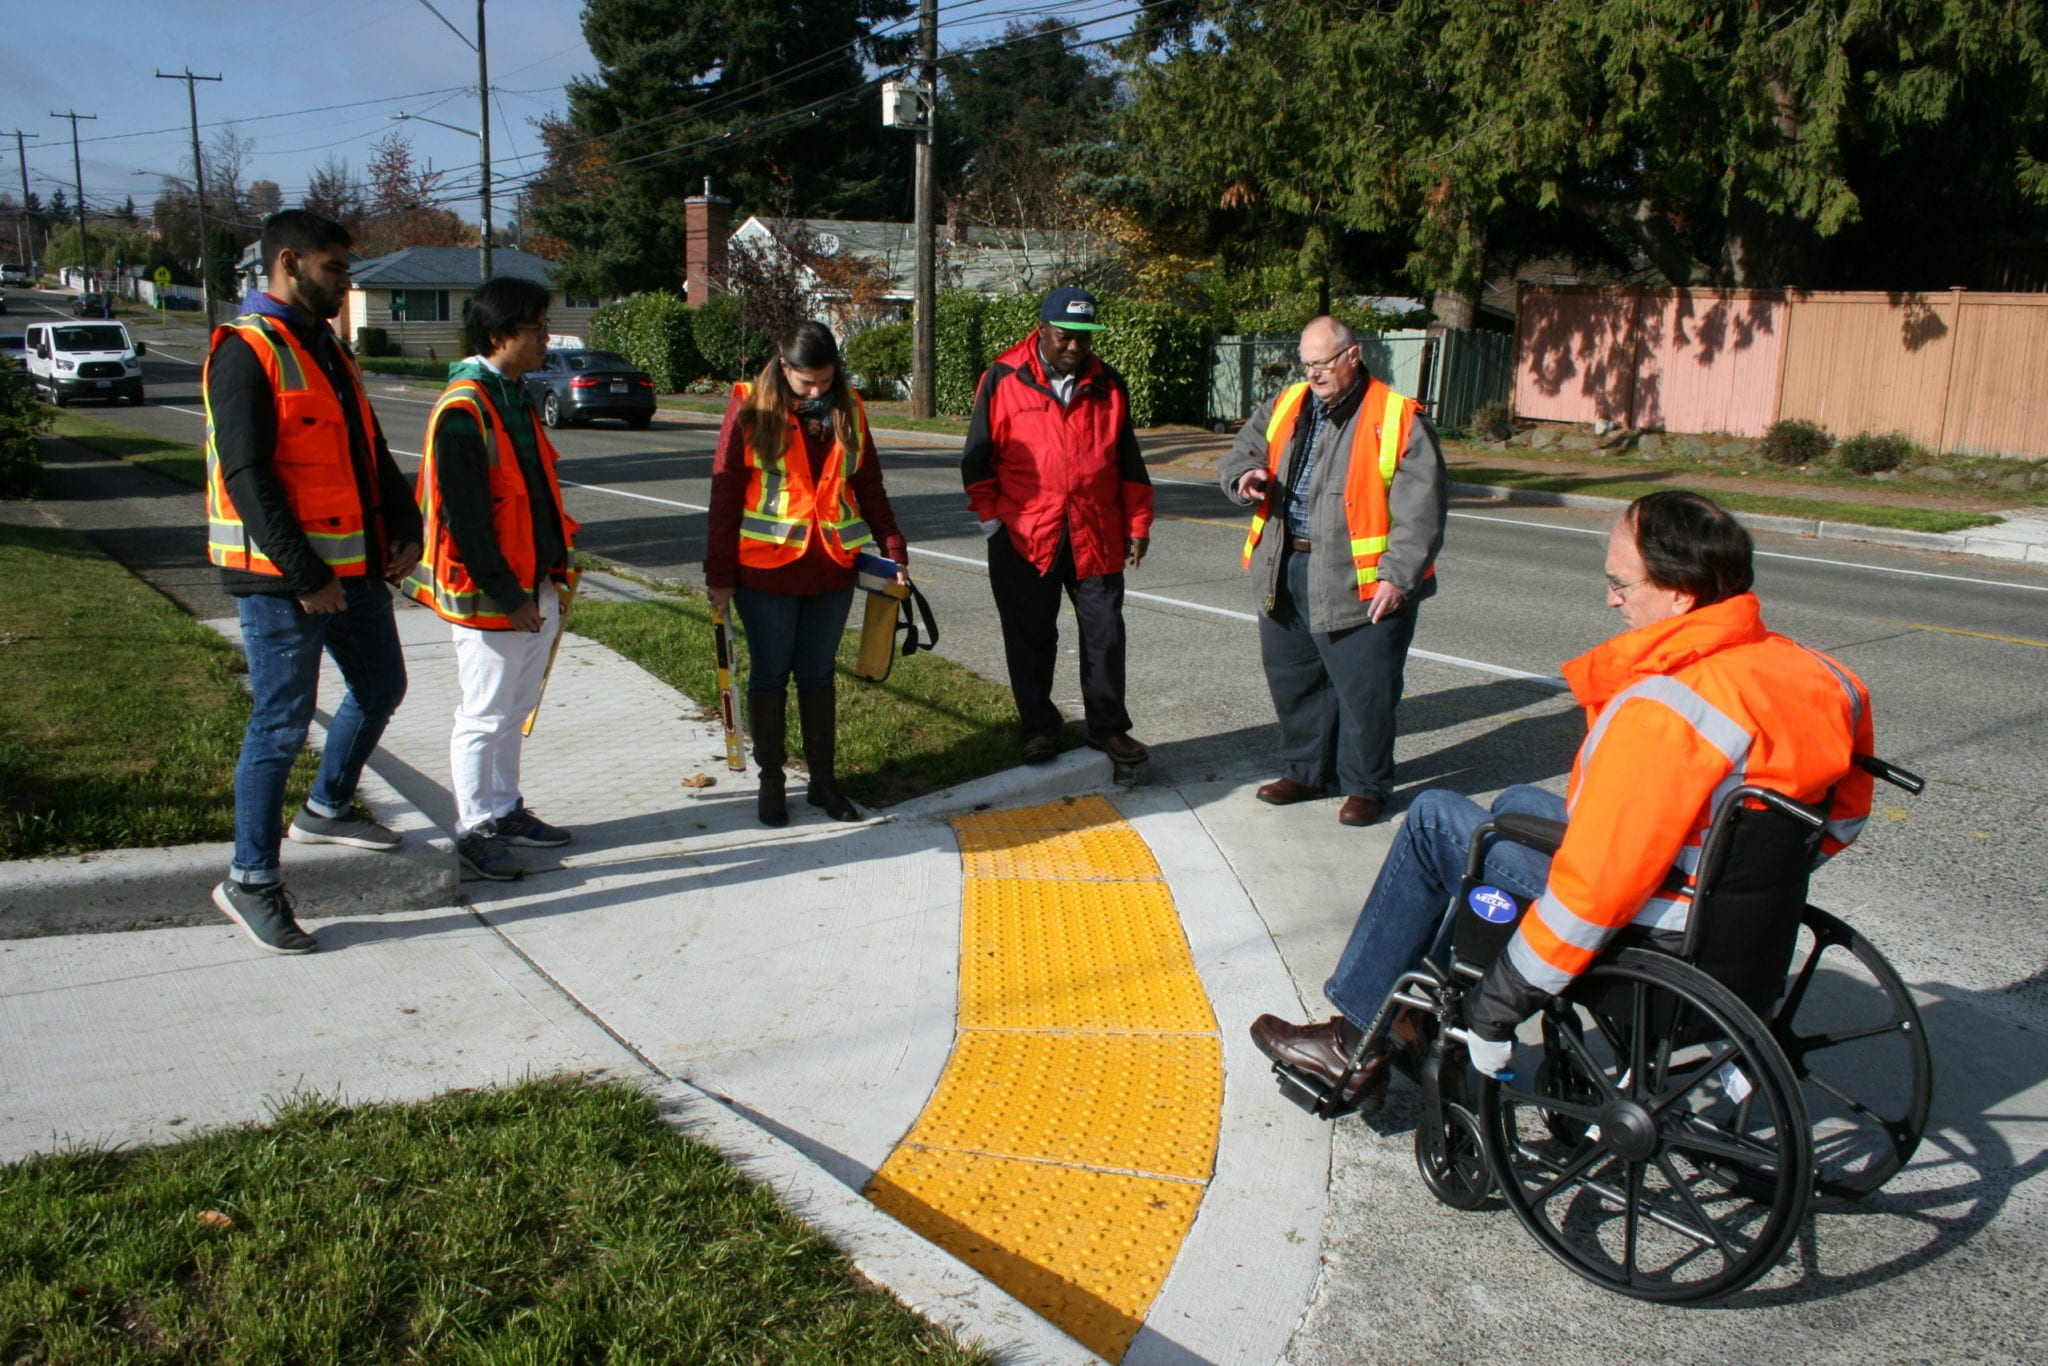person: (1480, 478, 1880, 988), (200, 206, 416, 959), (1231, 314, 1449, 825), (705, 314, 904, 832), (958, 299, 1158, 770)
